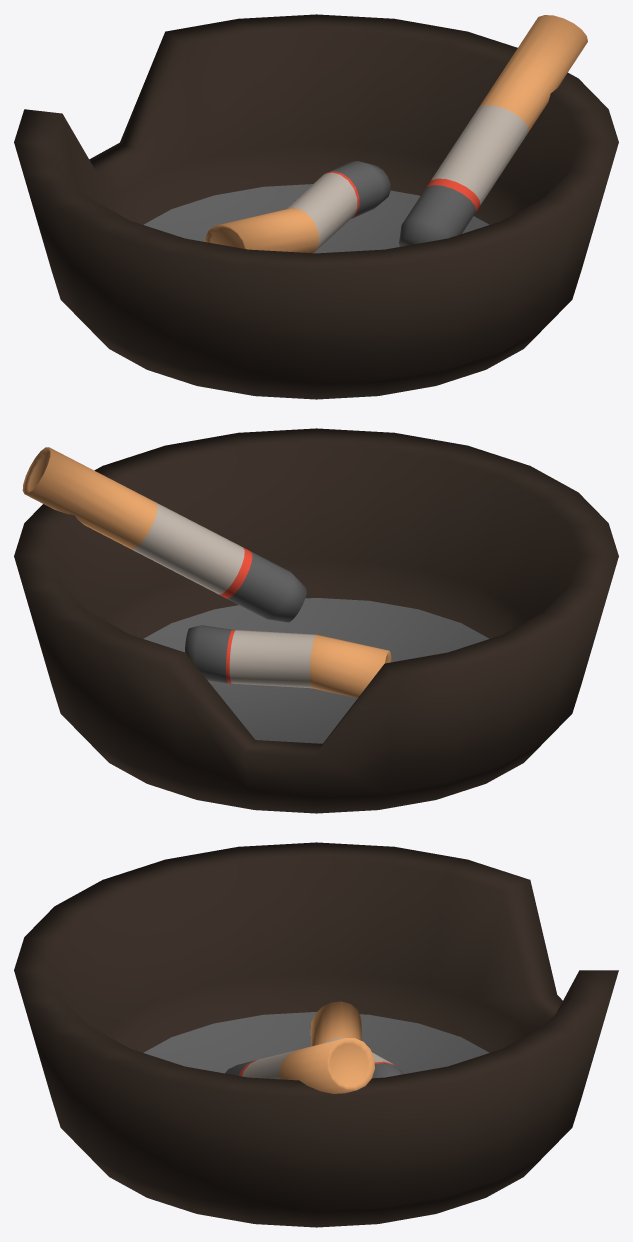
Rendered from ashTray.fbx.
The picture shows the model from 3 angles, top to bottom: view 1: azimuth 30°, elevation 25°; view 2: azimuth 150°, elevation 25°; view 3: azimuth 270°, elevation 25°; orthographic projection.
Parts seen in each view (by area): view 1: Cylinder.006; view 2: Cylinder.006; view 3: Cylinder.006.
Boxes of the visible parts, x1,y1,x2,y2 form: Cylinder.006: (14,14,618,399); Cylinder.006: (14,428,618,813); Cylinder.006: (14,842,618,1227).
Size of the model in its own units: 24.24 by 9.02 by 23.44.
